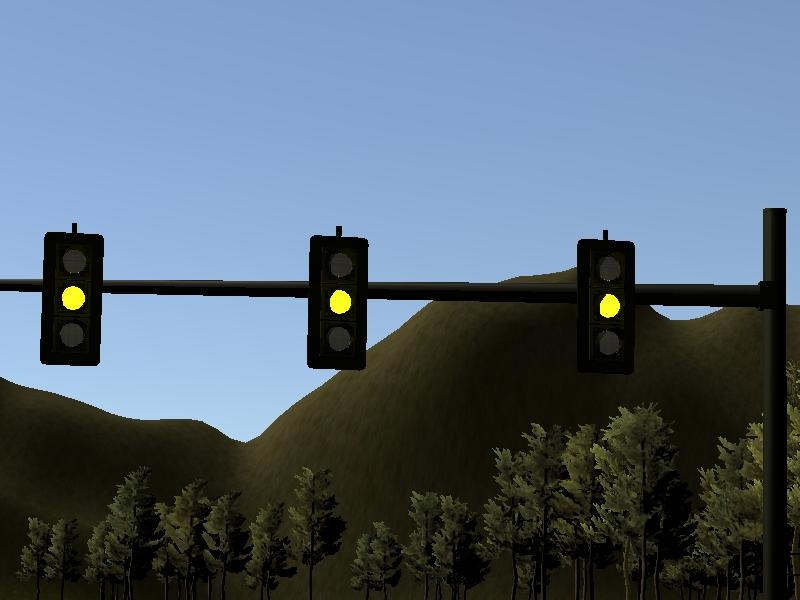yellow: (565, 224, 642, 379), (301, 216, 373, 381), (36, 215, 109, 375)
